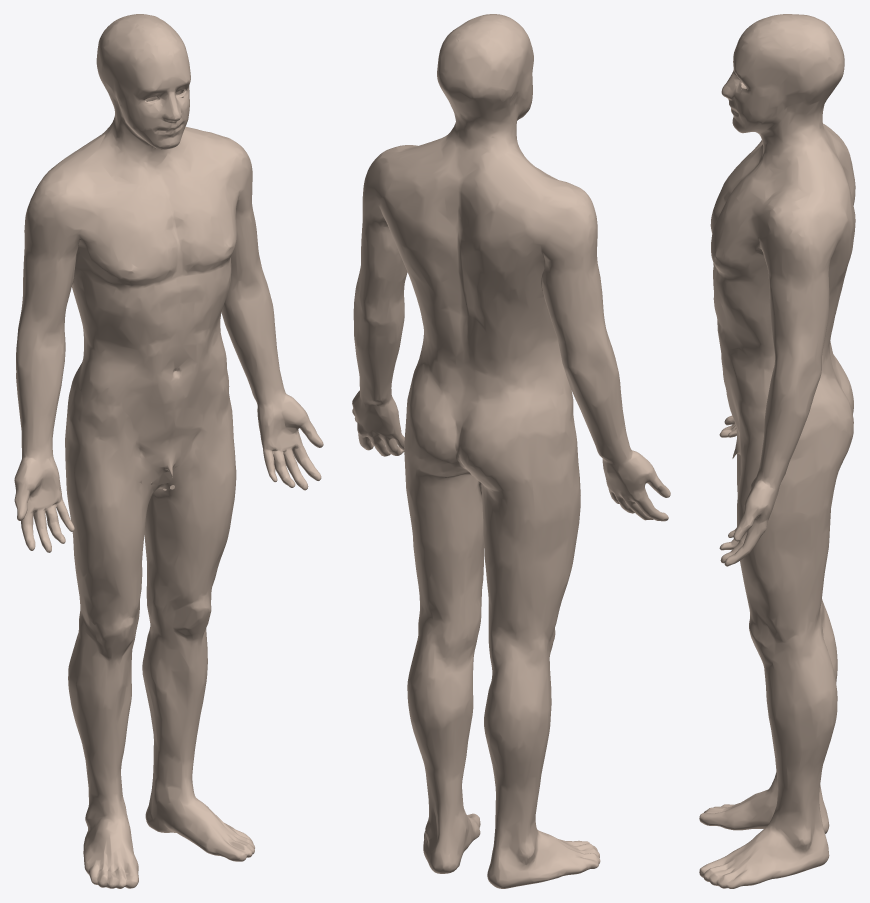
The model's file is piel.h.glb.
The picture shows the model from 3 angles, left to right: view 1: azimuth 30°, elevation 25°; view 2: azimuth 150°, elevation 25°; view 3: azimuth 270°, elevation 25°; orthographic projection. The views are drawn at different scales.
Visible parts, largest first — view 1: capa; view 2: capa; view 3: capa.
Boxes of the visible parts, x1=… form: capa: x1=14, y1=14, x2=323, y2=888; capa: x1=352, y1=14, x2=670, y2=888; capa: x1=699, y1=14, x2=855, y2=888.
Size of the model in its own units: 0.6667 by 1.72 by 0.292.
